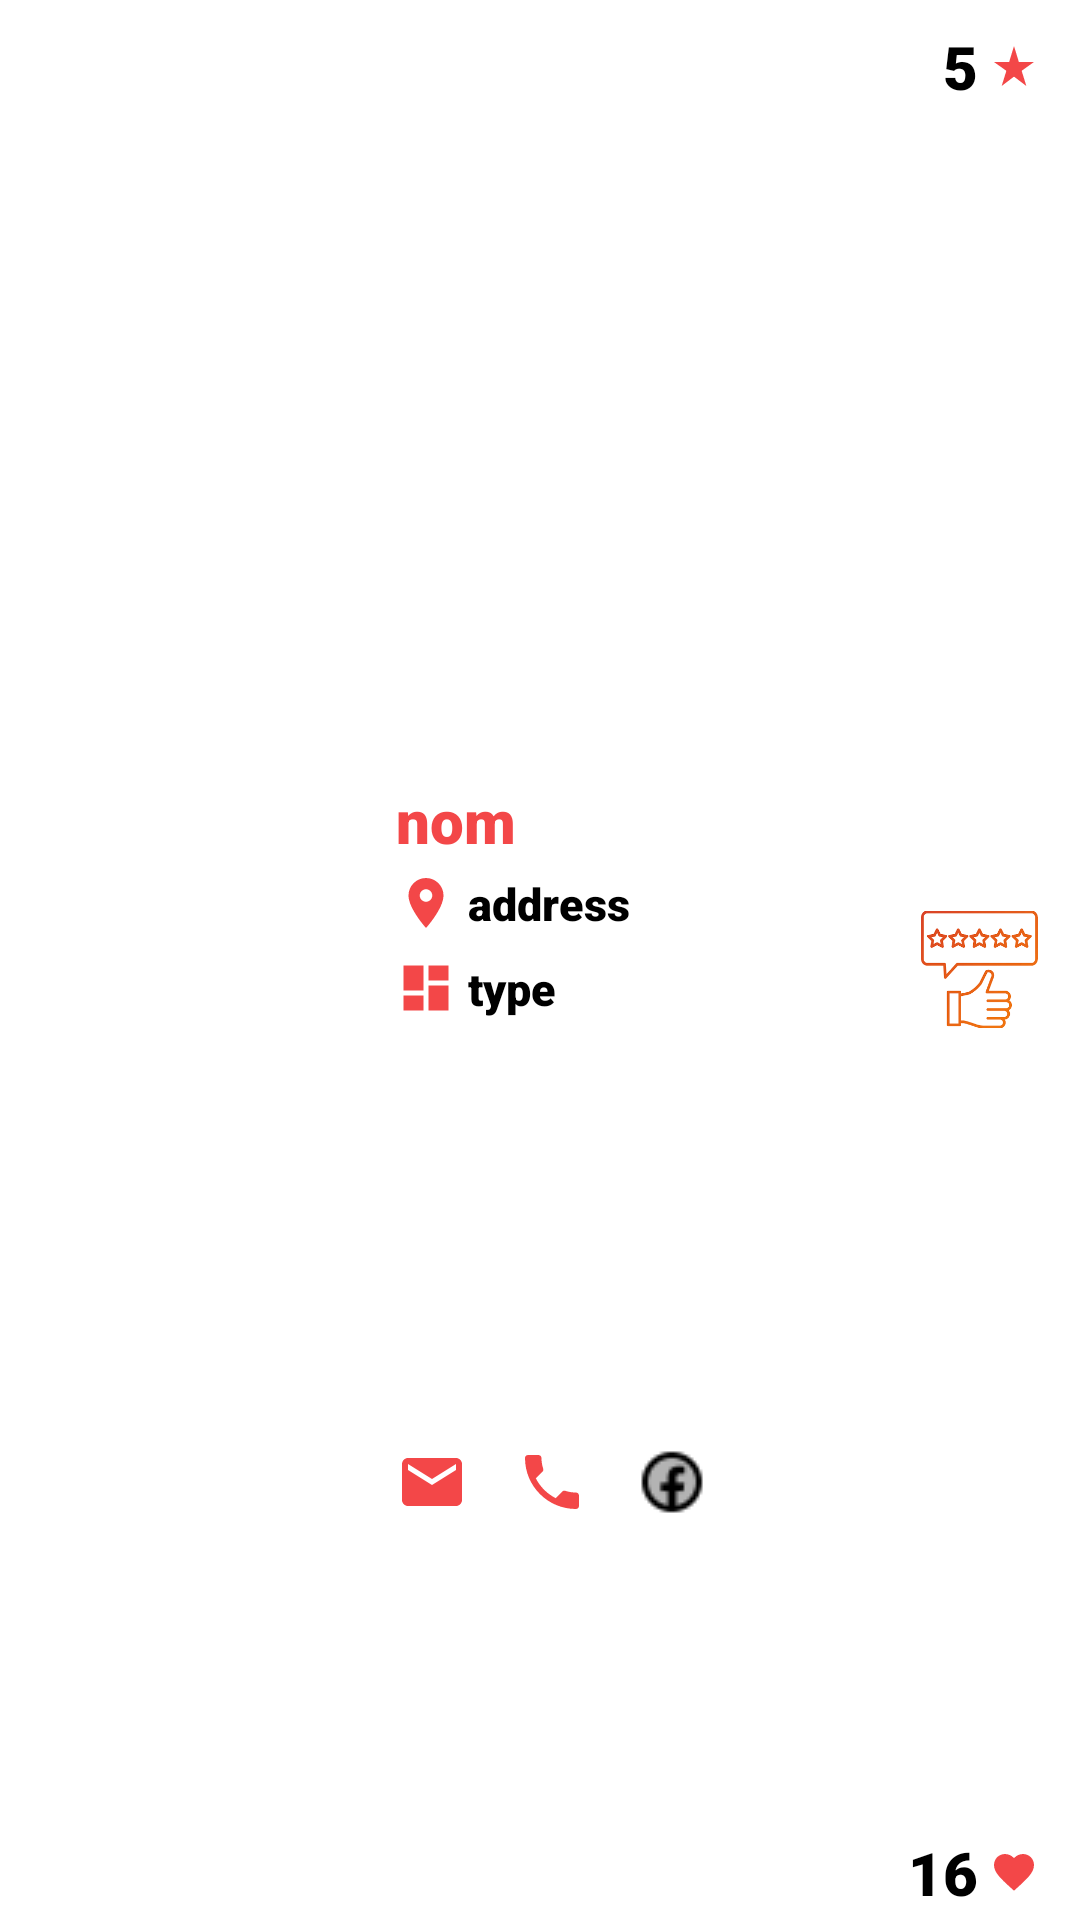

Screen size 1080*1920. Icon name, then its box in pixels as (x1, y1, x2, y2):
dashboard: (403, 965, 449, 1011)
email: (402, 1458, 462, 1506)
favorite: (994, 1854, 1034, 1891)
local phone: (525, 1455, 579, 1509)
location on: (408, 878, 444, 928)
star rate: (994, 47, 1034, 86)
